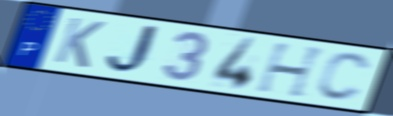3: (160, 30, 211, 84)
4: (210, 35, 259, 93)
C: (314, 51, 373, 103)
H: (253, 41, 330, 100)
J: (104, 23, 166, 76)
K: (51, 15, 108, 71)
